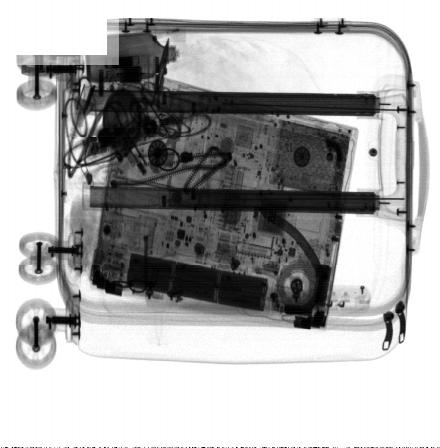Scissors: (140, 40, 173, 116)
